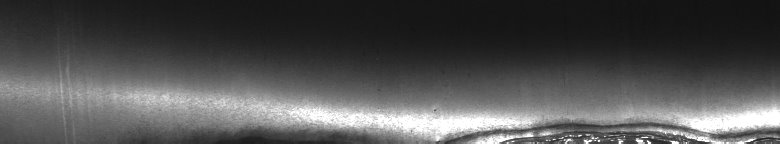ke: (188, 98, 776, 136)
